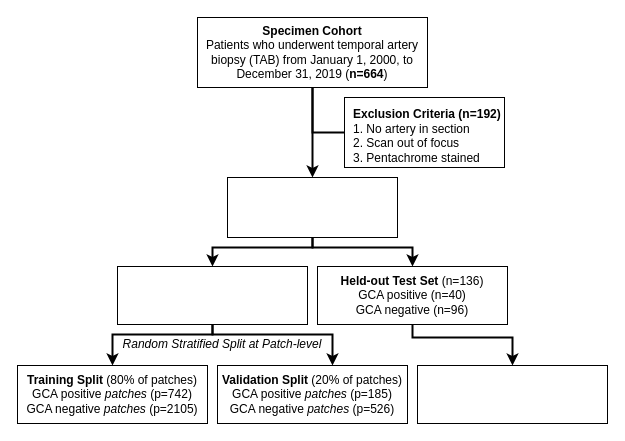
Some shapes in this 625 by 441 pixel diagram are drawn without their labels. The shapes that lost their labels are listed below. From the top down, each one's centre as x and y in pixels, then its label:
point (312, 207): Study Population ( n=472 ) GCA positive (n=140) GCA negative (n=332)
point (212, 295): Training & Validation Set (n=336) GCA positive (n=100) GCA negative (n=236)
point (512, 394): Held-out Test Split GCA positive patches (p=251) GCA negative patches (p=990)
